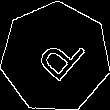P_SW: (25, 26, 86, 88)
